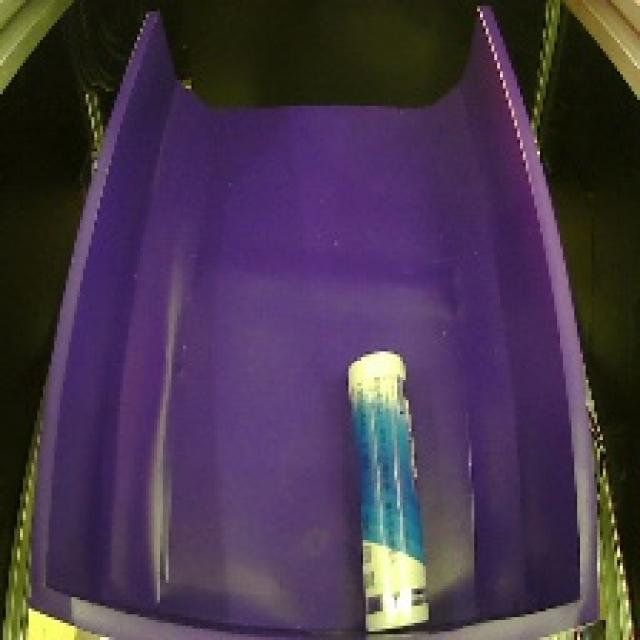battery: (332, 335, 445, 640)
